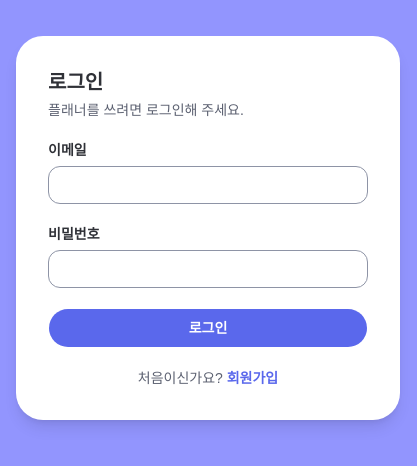
Test: AuthGate: 로그인 문지기 › 비밀번호가 틀리면 한국어로 알려 준다
This screenshot has width=417, height=466.
Expected: the heading "로그인" is shown, [48,71,103,93]
Type "me@example.com" into the field labelled "이메일" at (208, 185), box [48,166,368,204]
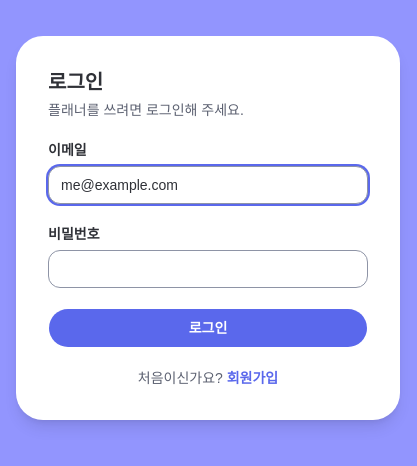
Type "secret123" into the password field labelled "비밀번호" at (208, 269), box [48,250,368,288]
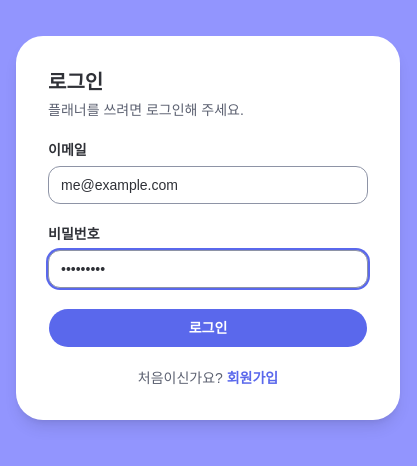
Click the button "로그인" at (208, 328), box [48,308,368,348]
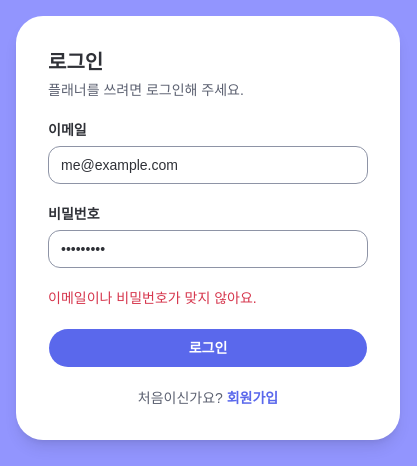
Expected: the message reads "이메일이나 비밀번호가 맞지 않아요.", [48,290,257,306]
